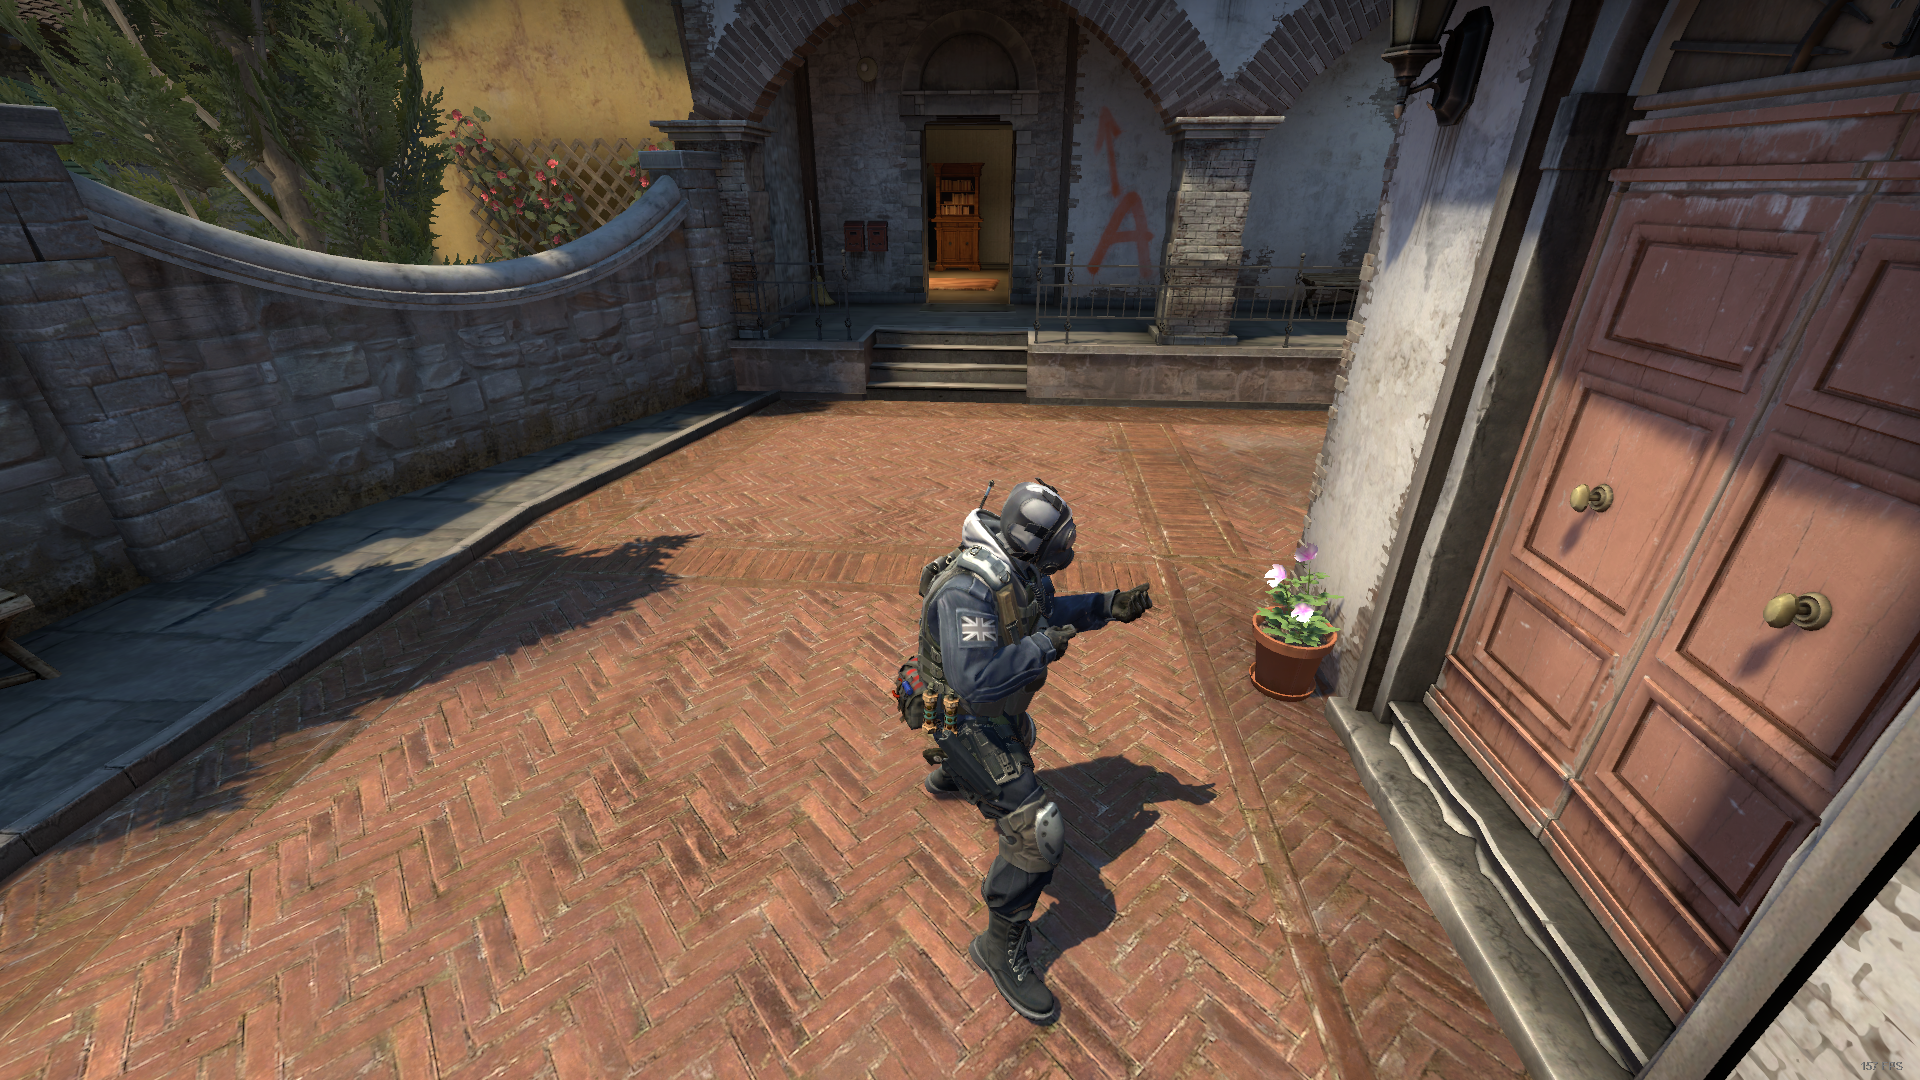ct: (898, 473, 1156, 1022)
